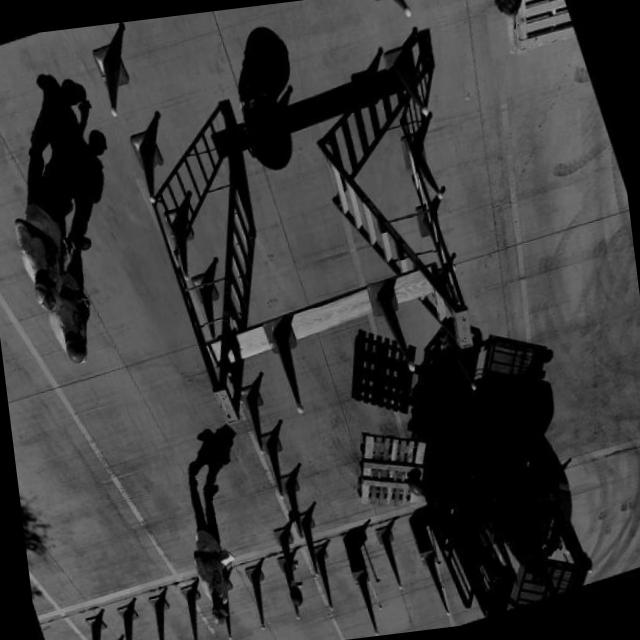driver: (486, 484, 548, 579)
forklift: (394, 352, 614, 627)
person: (157, 447, 256, 634), (0, 152, 87, 310), (38, 283, 102, 374), (427, 0, 533, 41)
